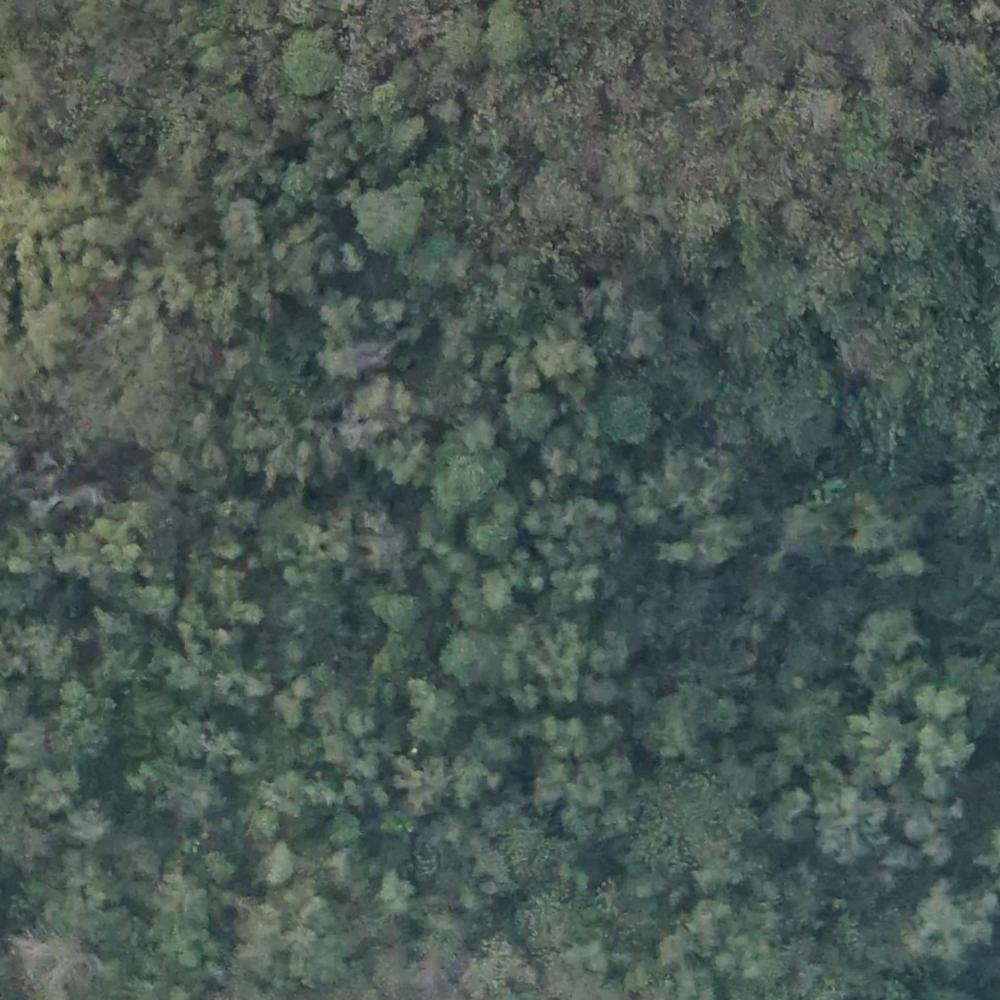tree: (906, 881, 990, 973), (433, 426, 507, 512), (255, 897, 335, 973), (653, 693, 729, 759), (349, 185, 418, 251), (279, 26, 343, 95), (823, 789, 880, 862), (602, 384, 659, 452), (852, 711, 907, 773), (676, 189, 734, 246), (22, 301, 75, 363), (534, 317, 590, 375), (435, 626, 493, 681), (404, 687, 462, 742), (472, 491, 520, 552), (356, 378, 411, 431), (481, 15, 539, 65), (459, 571, 515, 622), (867, 610, 922, 660), (214, 199, 267, 249), (395, 758, 444, 809), (353, 532, 403, 579), (100, 511, 145, 563), (604, 71, 653, 117), (374, 586, 424, 631), (377, 874, 426, 919), (803, 94, 854, 137), (300, 525, 347, 569), (924, 726, 977, 765), (536, 167, 585, 209), (202, 732, 245, 779), (697, 840, 738, 889), (552, 564, 602, 604), (770, 797, 812, 843), (74, 796, 113, 843), (537, 659, 575, 707), (161, 720, 206, 760), (7, 728, 41, 764), (280, 692, 312, 729), (372, 77, 402, 115), (260, 846, 298, 875), (251, 806, 278, 834)
